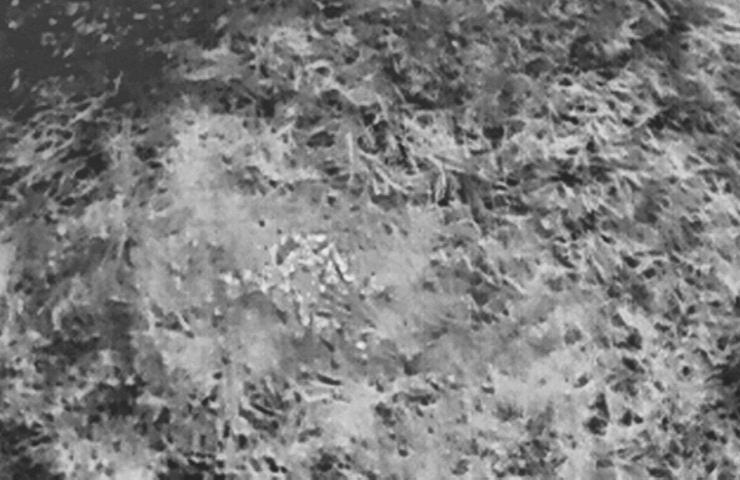landmines: (250, 223, 375, 333)
